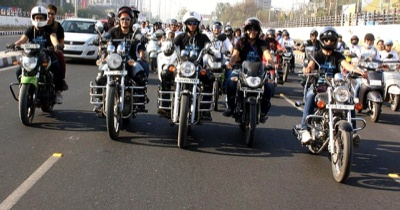helmet: (179, 9, 202, 34), (318, 26, 340, 52), (115, 6, 135, 31), (29, 5, 49, 29)
